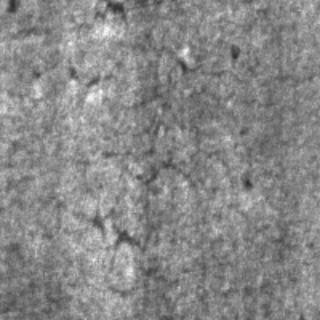crazing: (66, 36, 300, 112), (78, 144, 202, 250)
